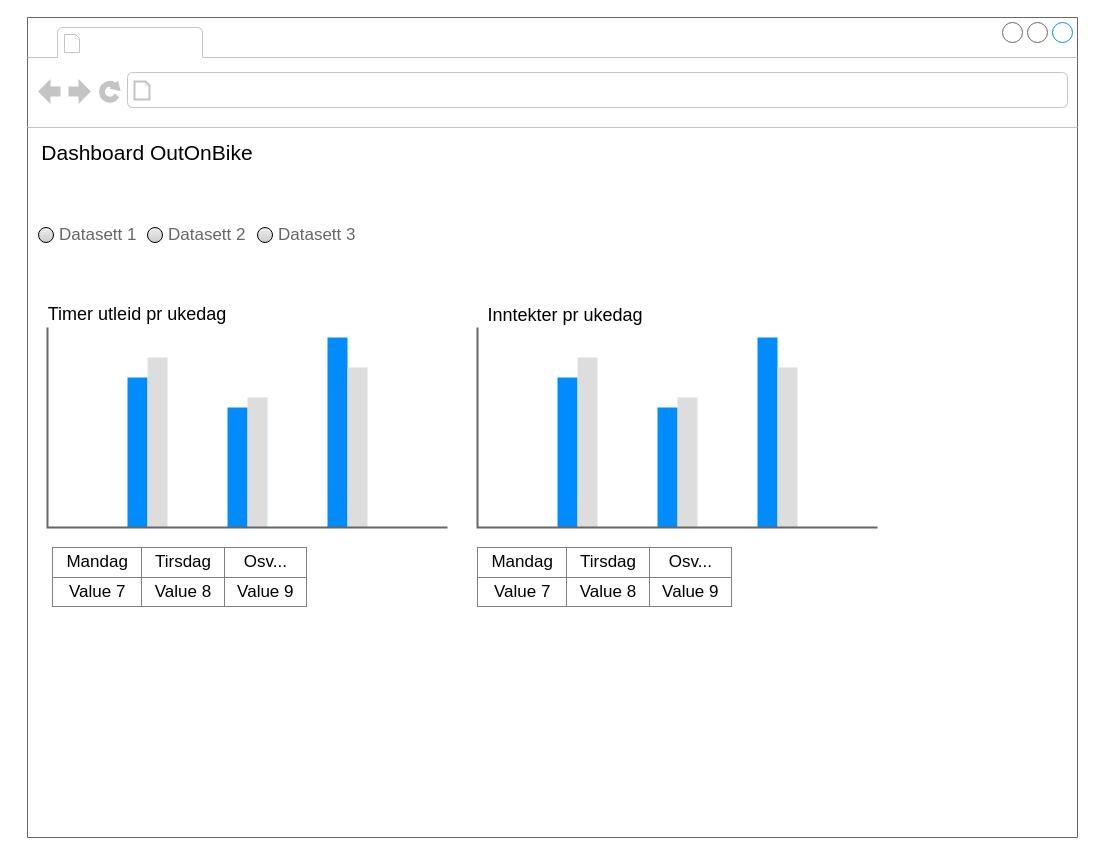
Image size: 1095x855. Some labels were removed from this diagram. Here are the shapes that lost their labels. From the top down, the centre of each, then its label:
At pixel 142 42: "Page 1".
At pixel 282 90: "https://www.default.com".
